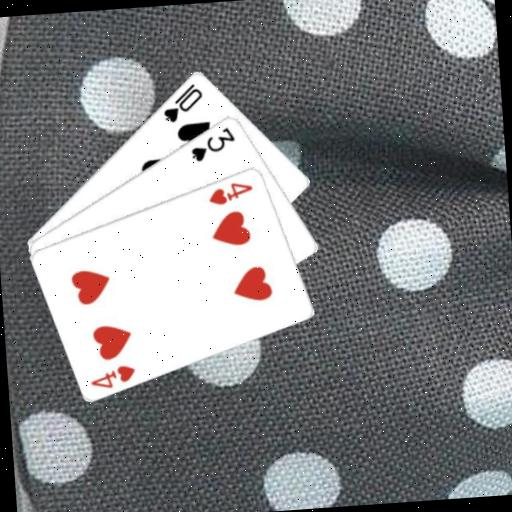10S: (158, 80, 206, 126)
3S: (187, 123, 238, 164)
4H: (87, 361, 139, 391), (205, 177, 255, 207)
